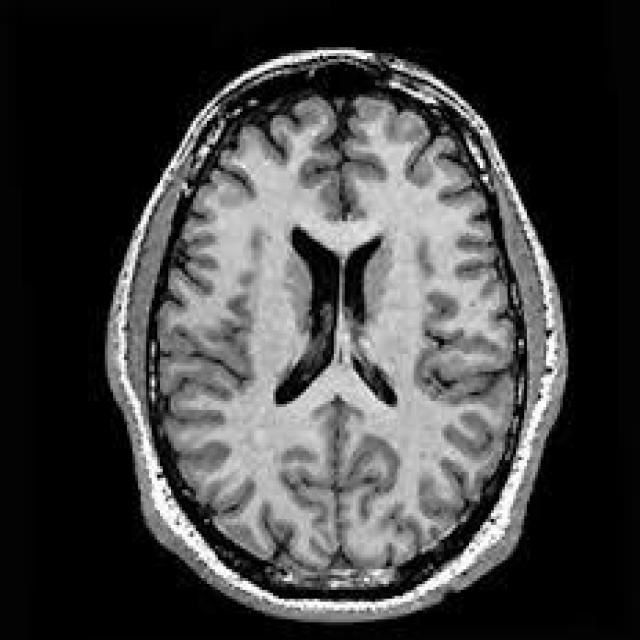no-tumor: (205, 169, 470, 518)
